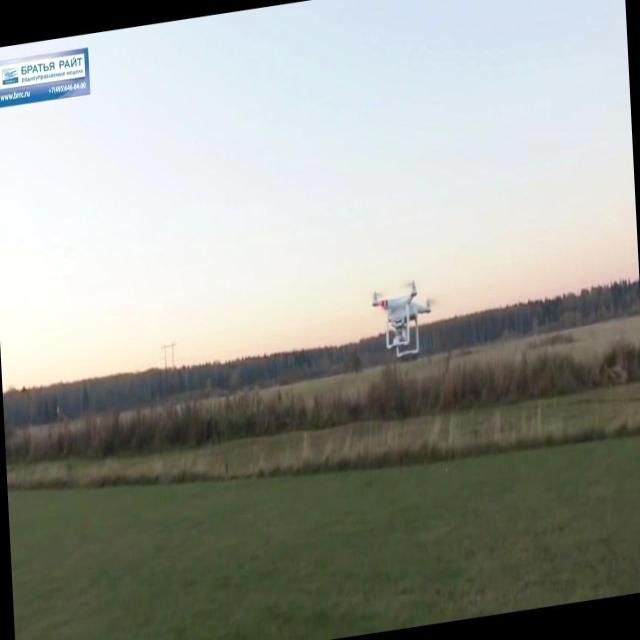drone: (369, 277, 433, 366)
